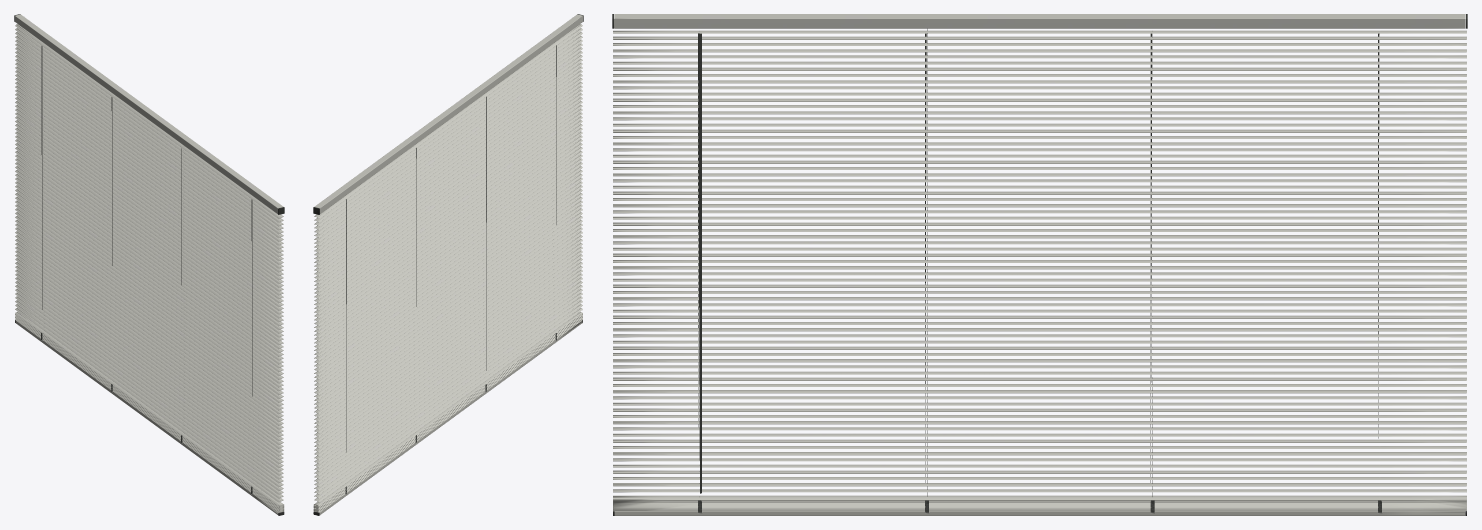
Rendered from blinds_window_4m_open_a01.glb.
The picture shows the model from 3 angles, left to right: view 1: azimuth 30°, elevation 25°; view 2: azimuth 150°, elevation 25°; view 3: azimuth 270°, elevation 25°; orthographic projection. The views are drawn at different scales.
Parts seen in each view (by area): view 1: sm_blinds_window_4m_open_a01_01; view 2: sm_blinds_window_4m_open_a01_01; view 3: sm_blinds_window_4m_open_a01_01.
Part boxes in pixels (x1=…): sm_blinds_window_4m_open_a01_01: x1=14, y1=14, x2=284, y2=515; sm_blinds_window_4m_open_a01_01: x1=313, y1=14, x2=583, y2=515; sm_blinds_window_4m_open_a01_01: x1=612, y1=14, x2=1467, y2=515.
Size of the model in its own units: 0.0561 by 2.57 by 4.
4 materials, 4 textured.
